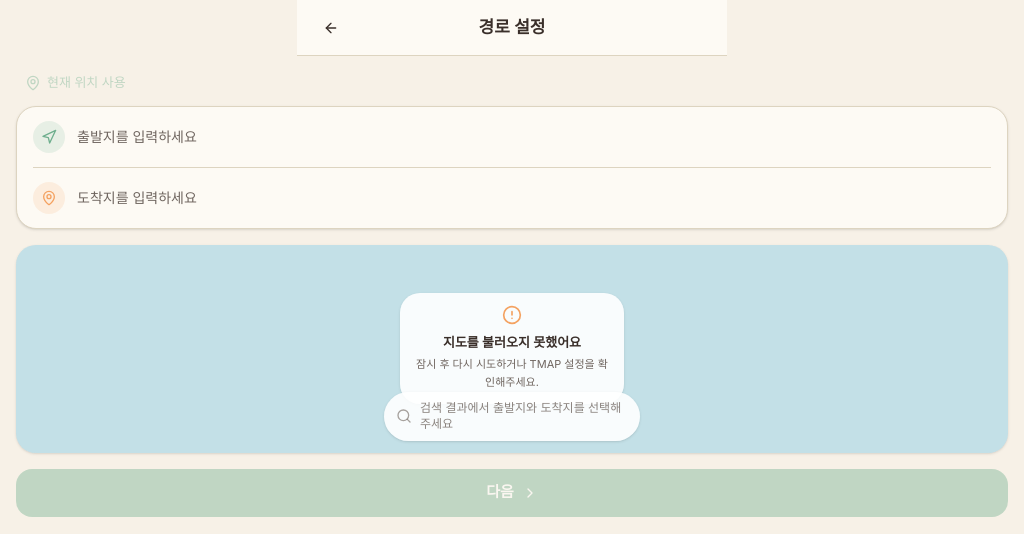
Test: MapSetupScreen location search › restores recent locations after remount and resolves fresh coordinates on reuse
Earlier steps of the test are not shown.
Click the search field labelled "출발지" at (534, 136), box [77,126,991,147]
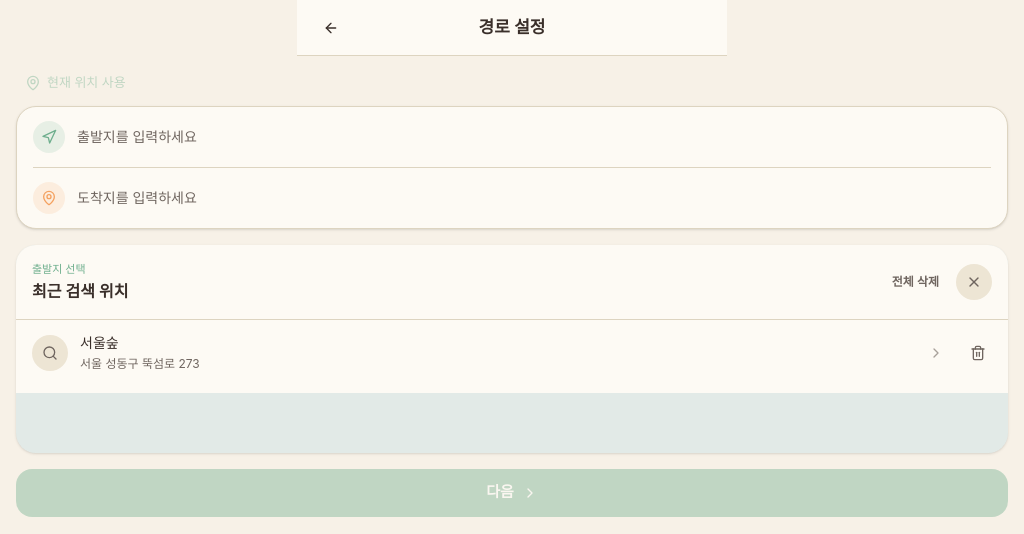
Click the button "서울숲 서울 성동구 뚝섬로 273" at (50, 352), box [16,320,960,385]
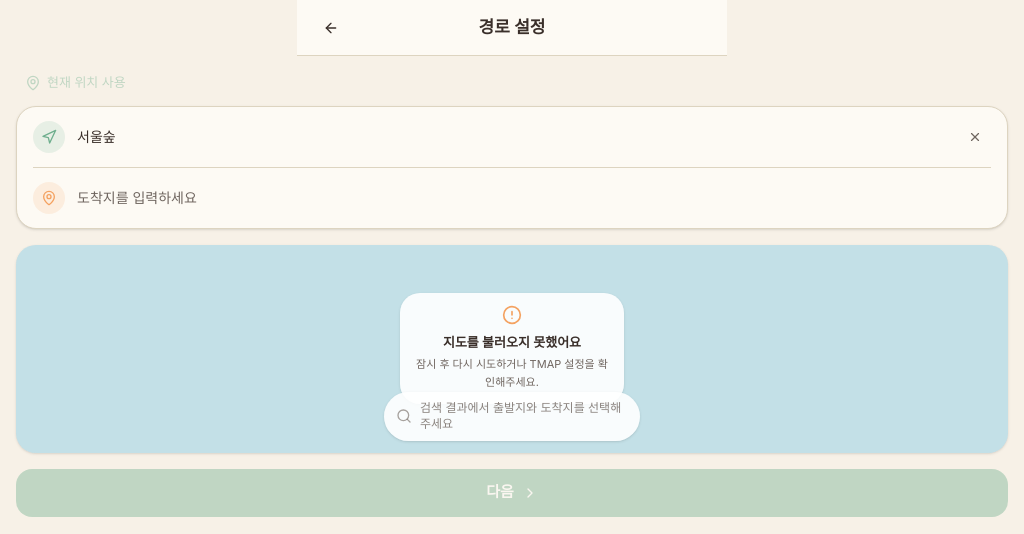
Check: the search field named "출발지" holds "서울숲", box [77,126,947,147]
